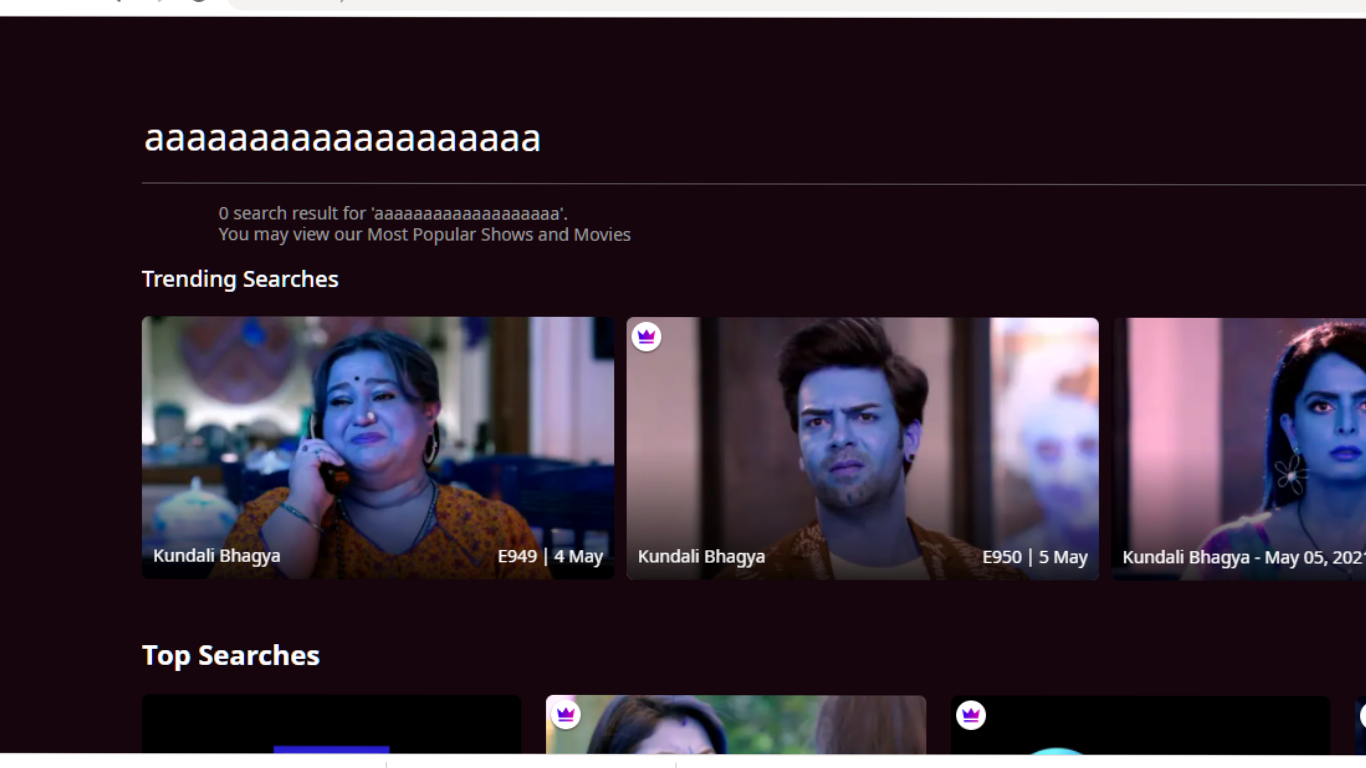noresultsfound: (204, 200, 644, 267)
searchtextbox: (134, 46, 1357, 193)
